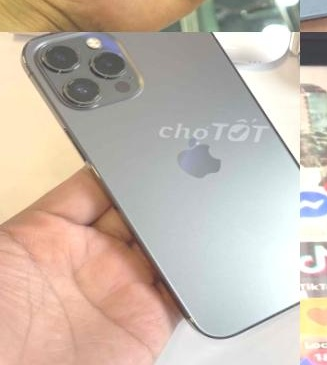screen_defect: (300, 33, 327, 211), (300, 193, 327, 365)
